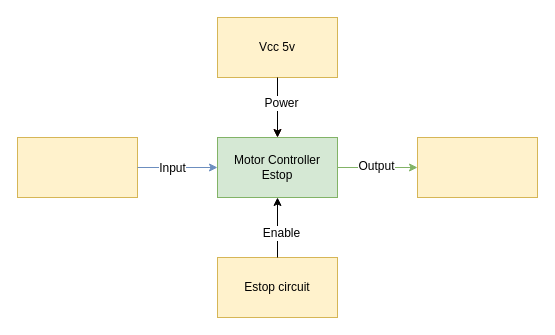
The diagram is 555 pixels wide and 335 high, and some of its shapes have lost their labels. The box of each missing label's shape, as (x1, y1, x2, y2) in pixels:
Microcontroller: (16, 136, 138, 198)
Motor controller: (416, 136, 538, 198)
